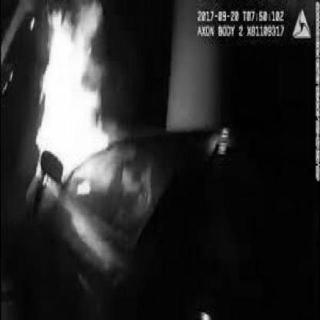Fire: (26, 3, 124, 171)
